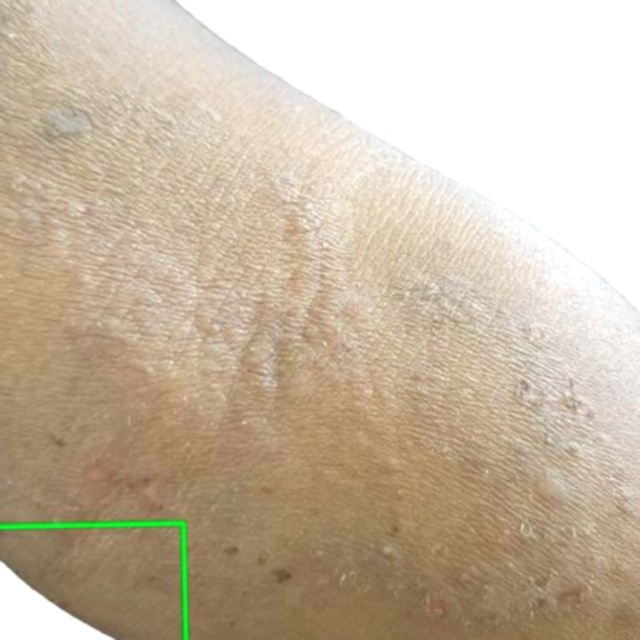Tinea Corporis: (0, 523, 185, 639)
